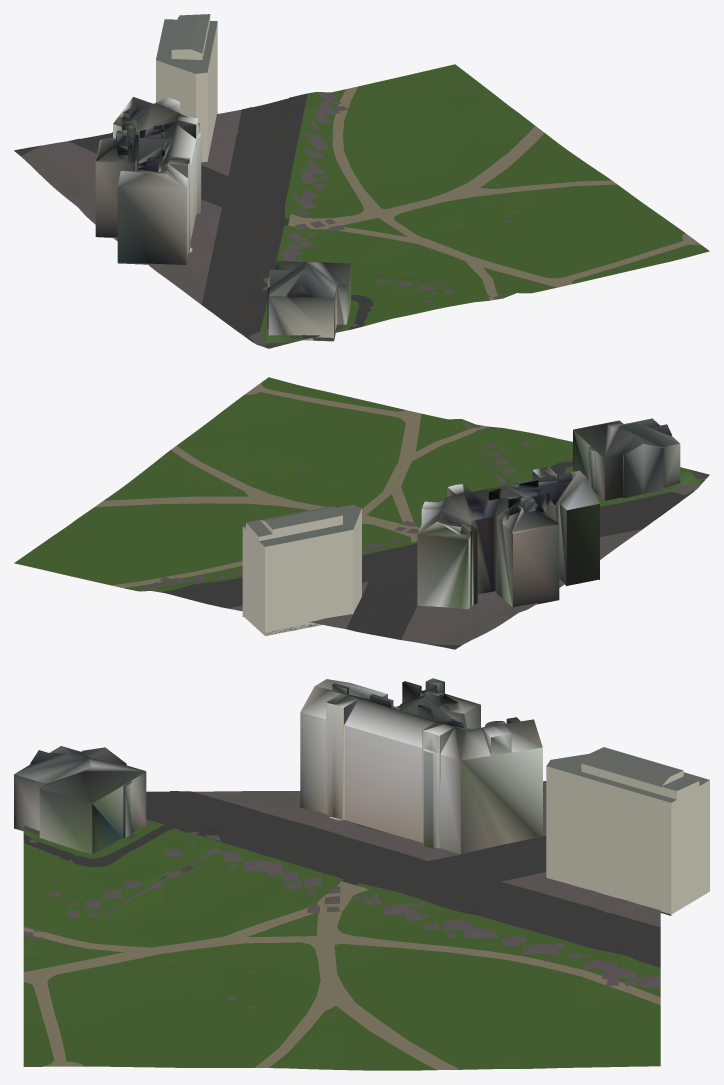
3 views of the same model, one above another, from view 1: azimuth 30°, elevation 25°; view 2: azimuth 150°, elevation 25°; view 3: azimuth 270°, elevation 25° (orthographic). The views are drawn at different scales.
Visible parts, largest first — view 1: c_p00_p10; view 2: c_p00_p10; view 3: c_p00_p10.
Boxes of the visible parts, x1,y1,x2,y2 form: c_p00_p10: [14, 14, 709, 348]; c_p00_p10: [14, 377, 709, 649]; c_p00_p10: [14, 678, 709, 1070].
Size of the model in its own units: 134 by 30.74 by 140.
